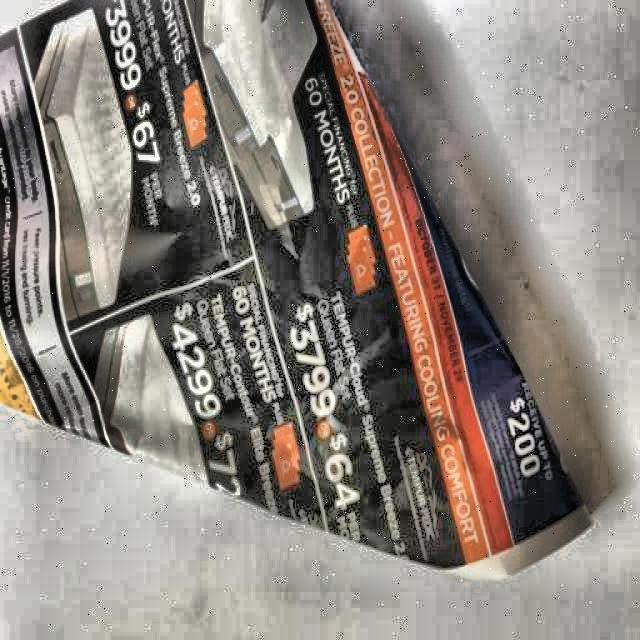cardboard: (0, 0, 591, 578)
